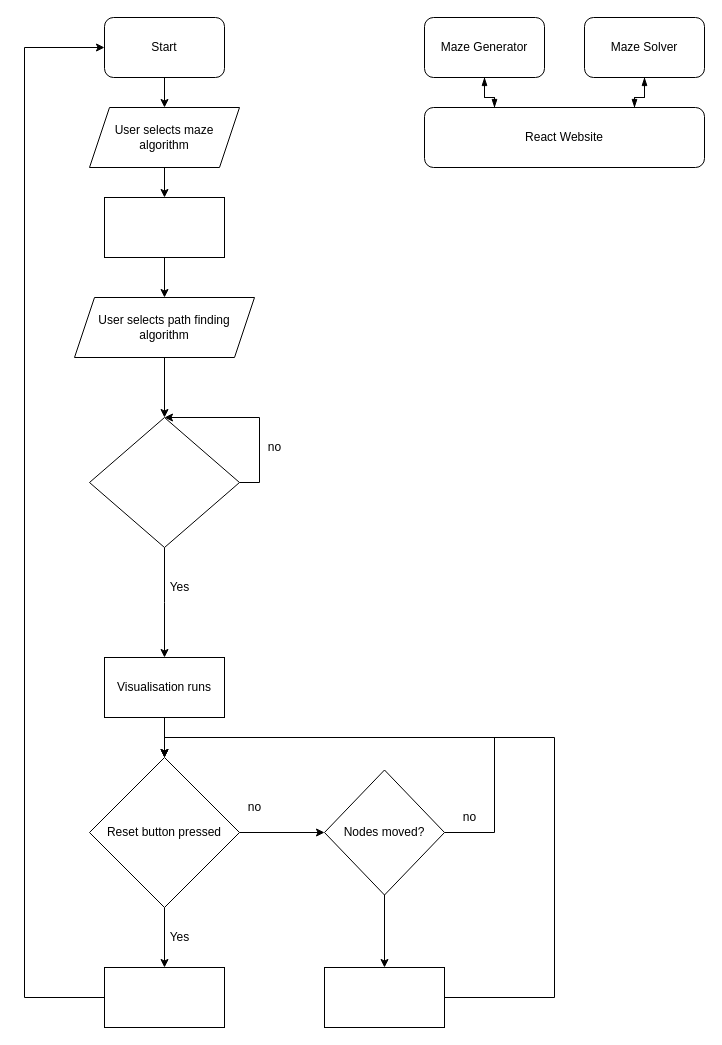
This 722x1045 diagram has some shape labels left out. The box of each missing label's shape, as (x1, y1, x2, y2) in pixels:
generate maze using selected algorithm: (104, 196, 224, 258)
Start Button Pressed?: (88, 416, 240, 548)
Update visualisation: (324, 966, 444, 1028)
Visualisation resets: (104, 966, 224, 1028)
